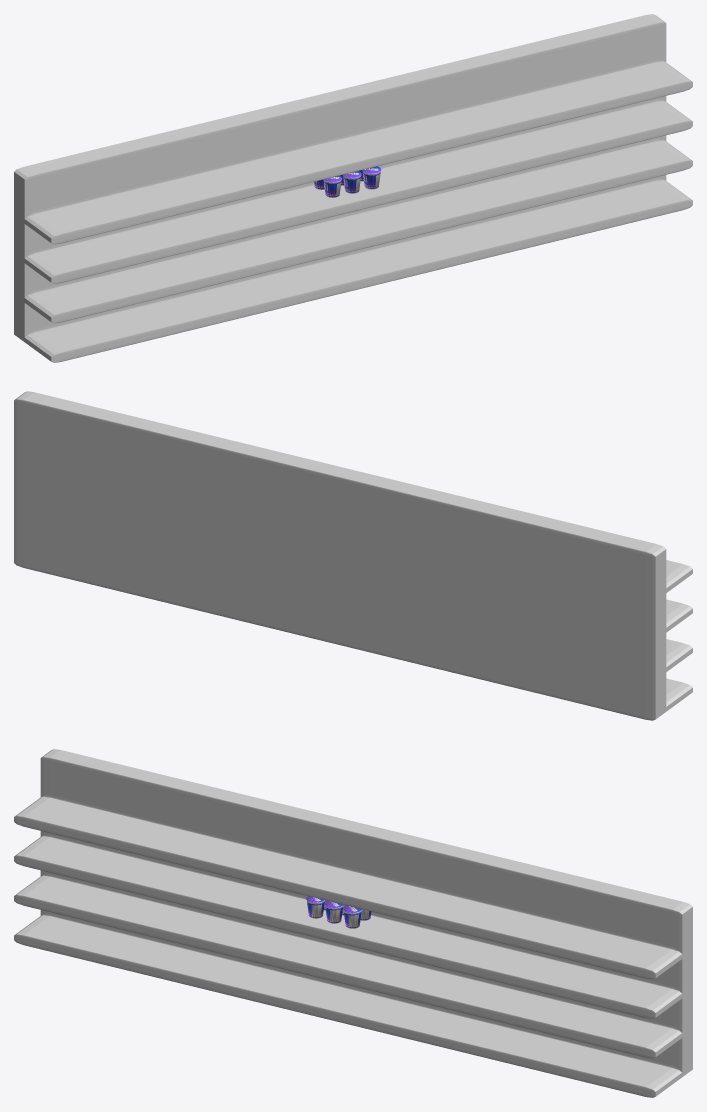
File: ramen4.fbx
The picture shows the model from 3 angles, top to bottom: view 1: azimuth 30°, elevation 25°; view 2: azimuth 150°, elevation 25°; view 3: azimuth 330°, elevation 25°; orthographic projection.
Parts seen in each view (by area): view 1: rack, cup_ramen; view 2: rack; view 3: rack, cup_ramen.
Boxes of the visible parts, box(x1,y1,x2,y2) form: rack: box(14, 14, 692, 362); cup_ramen: box(314, 166, 381, 197); rack: box(14, 391, 692, 720); rack: box(14, 749, 692, 1097); cup_ramen: box(306, 896, 371, 928).
Bounding box in the file's own units: 400 × 100 × 40.7.
2 materials, 1 textured.
